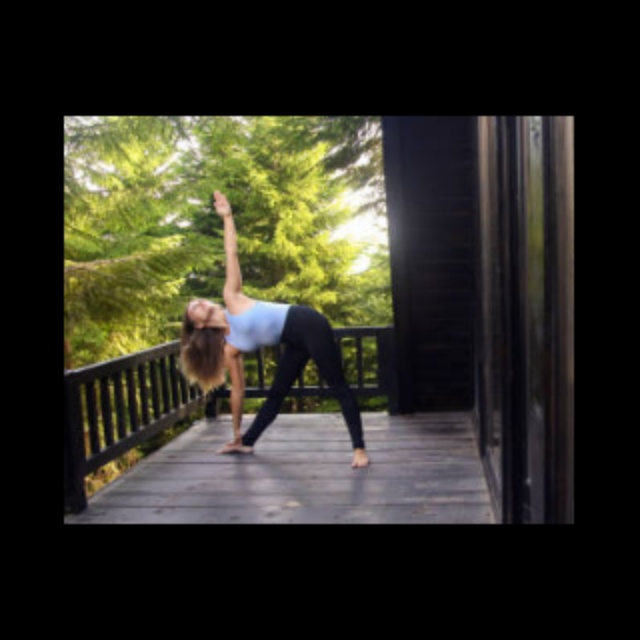Triangle_Pose: (174, 182, 390, 475)
